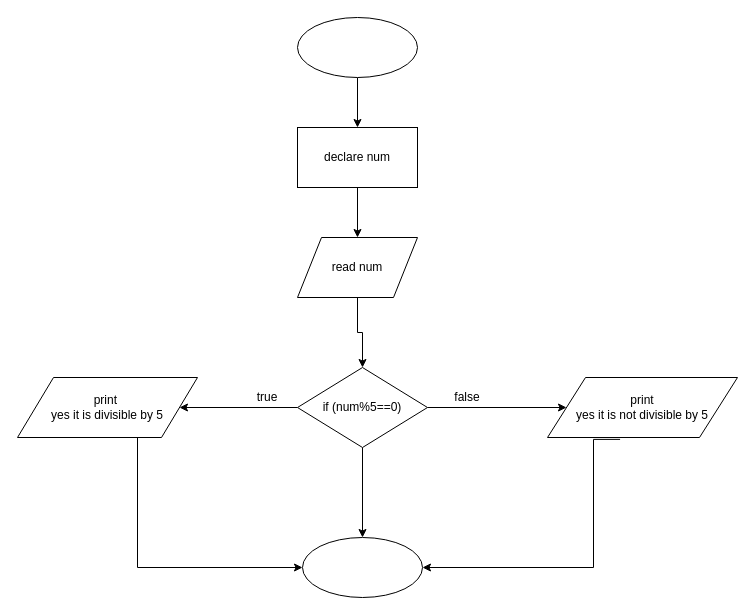
Image size: 755x615. Some labels were removed from this diagram. The shapes that lost their labels are listed below. From the top down, each one's centre as x and y in pixels, then its label:
At (357,47): "start".
At (362,567): "end".
